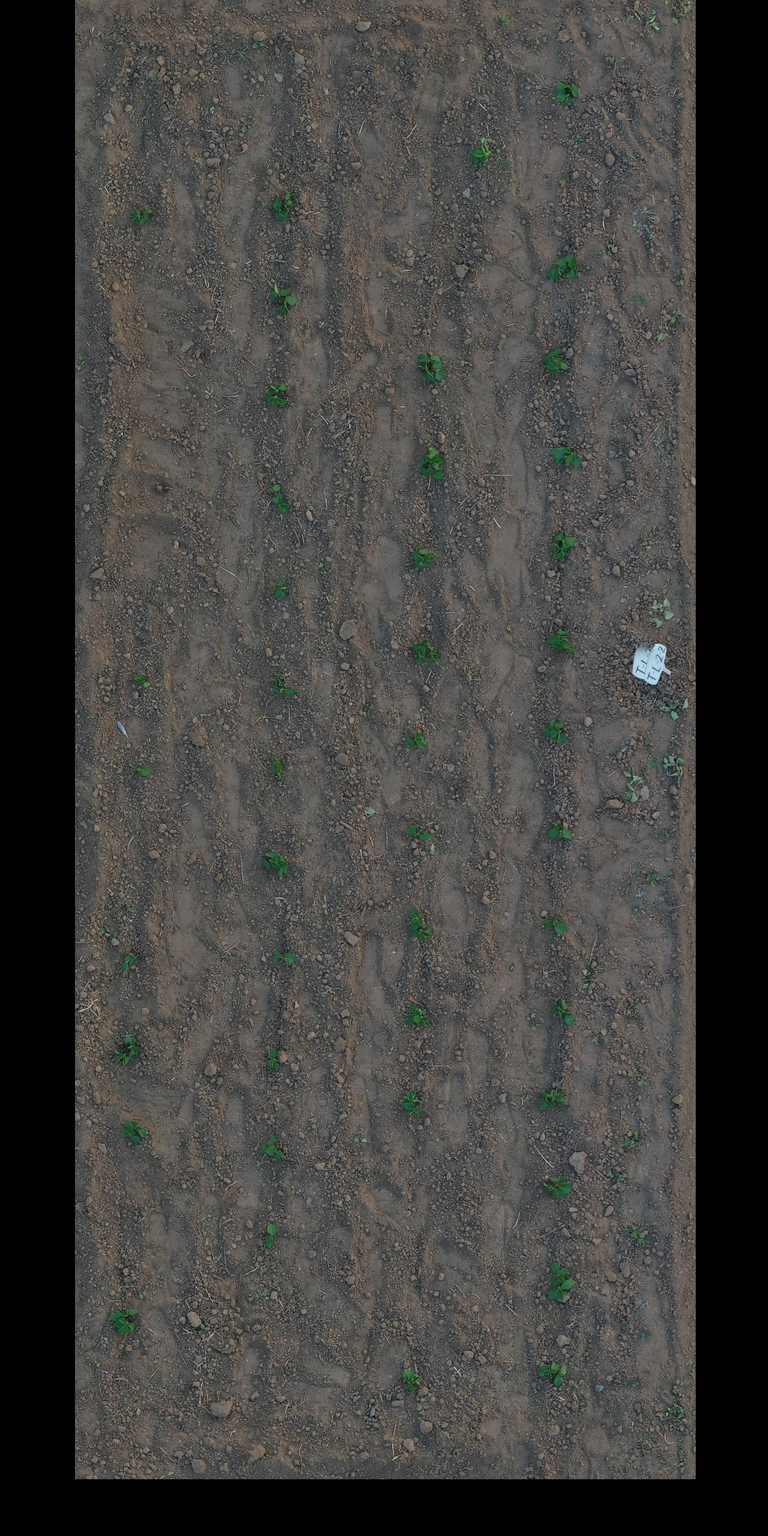s: (471, 136, 508, 165), (548, 1278, 574, 1301), (549, 1261, 568, 1288), (548, 1176, 572, 1197), (543, 916, 568, 934), (269, 282, 290, 303), (549, 721, 568, 744), (550, 638, 577, 654), (400, 1090, 424, 1108), (560, 998, 575, 1026), (108, 1308, 138, 1322), (554, 85, 576, 104), (554, 530, 577, 548), (123, 1120, 146, 1138), (537, 1361, 560, 1379), (540, 349, 564, 366), (416, 363, 436, 383), (544, 358, 569, 374), (546, 628, 571, 644), (276, 295, 297, 314), (258, 1134, 277, 1155), (550, 446, 572, 464), (426, 447, 443, 470), (409, 925, 435, 940), (408, 824, 432, 840), (562, 448, 582, 467), (546, 263, 567, 281), (405, 730, 426, 748), (557, 80, 579, 97), (112, 1318, 135, 1334), (264, 1223, 278, 1249), (548, 825, 572, 840), (123, 1036, 140, 1057), (272, 197, 286, 222), (413, 1009, 431, 1028), (550, 543, 570, 560), (264, 382, 288, 396), (420, 466, 444, 480), (273, 950, 297, 964), (272, 494, 290, 512), (262, 852, 281, 869), (410, 908, 424, 931), (274, 854, 288, 877), (404, 1102, 424, 1118), (138, 204, 153, 225), (551, 1000, 566, 1021), (264, 1145, 285, 1160), (402, 1369, 415, 1393), (114, 1048, 132, 1065), (470, 146, 489, 162), (539, 1090, 555, 1109), (412, 550, 437, 562), (554, 1364, 567, 1387), (542, 718, 558, 736), (550, 1089, 568, 1105), (128, 764, 151, 776), (267, 1048, 279, 1071), (282, 197, 295, 218), (120, 1130, 141, 1143), (432, 361, 445, 381), (270, 686, 296, 696), (133, 674, 151, 688), (274, 578, 286, 599), (567, 258, 579, 278), (128, 207, 142, 224), (427, 644, 440, 662), (267, 395, 288, 406), (418, 354, 441, 364), (406, 1003, 416, 1026), (414, 646, 426, 664), (542, 1181, 557, 1195), (411, 639, 428, 651), (554, 256, 574, 266), (122, 954, 134, 970), (552, 819, 561, 838), (414, 546, 432, 555), (413, 560, 431, 569), (267, 484, 280, 494), (284, 190, 296, 200), (272, 768, 282, 779), (412, 1374, 422, 1385), (270, 674, 281, 683), (272, 760, 284, 768), (420, 456, 427, 468), (273, 681, 283, 689), (270, 752, 278, 760), (270, 586, 275, 594)
